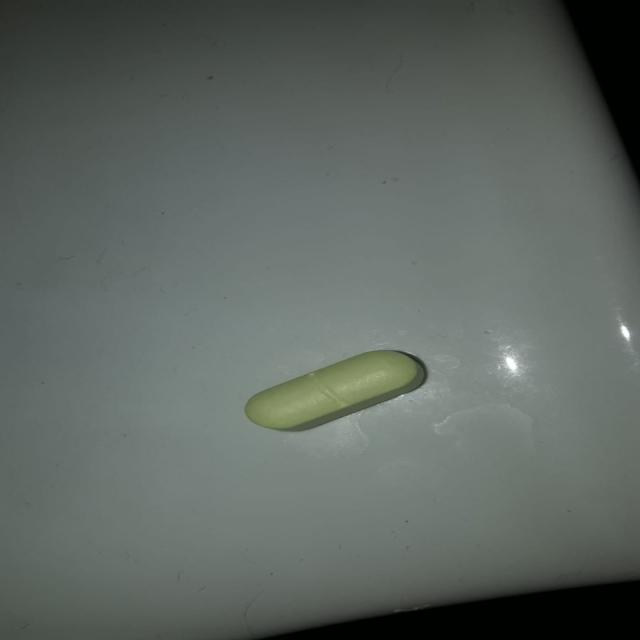pills: (225, 338, 458, 438)
